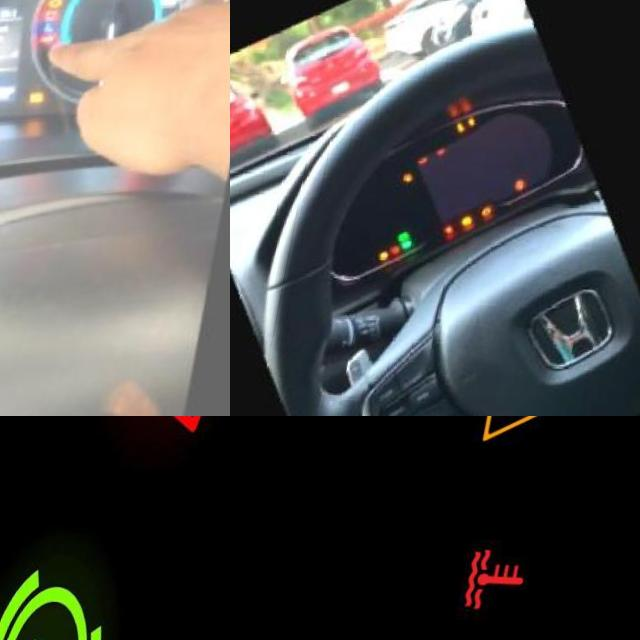Engine cooling system: (47, 10, 63, 27)
High Engine Coolant Temperature: (462, 533, 556, 618)
